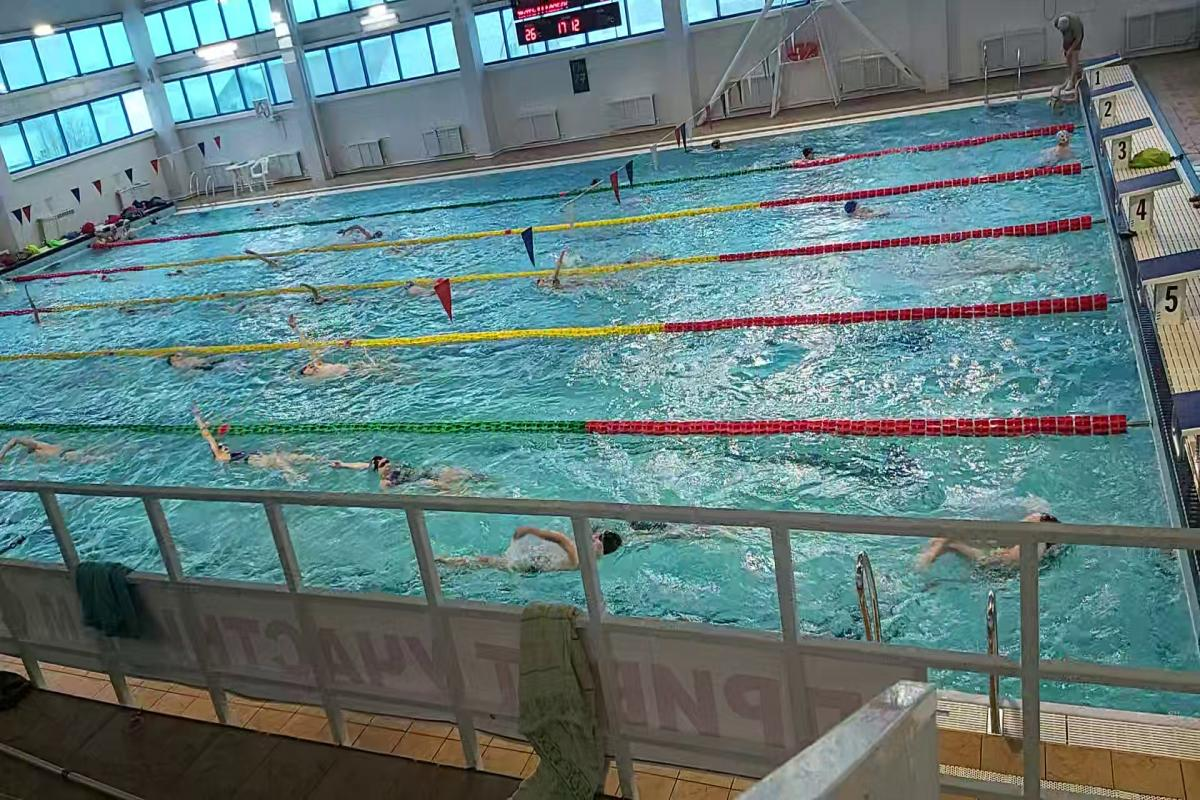swimmer: (442, 508, 632, 587), (916, 506, 1068, 597), (327, 444, 495, 495), (184, 434, 318, 482), (277, 344, 397, 383), (5, 430, 104, 472), (158, 350, 250, 378), (530, 248, 578, 296), (236, 244, 311, 274), (834, 200, 907, 224), (293, 280, 347, 310), (1042, 131, 1082, 165), (328, 221, 393, 240)
